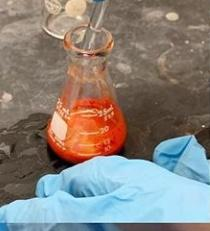Titrarion: (42, 14, 129, 156)
